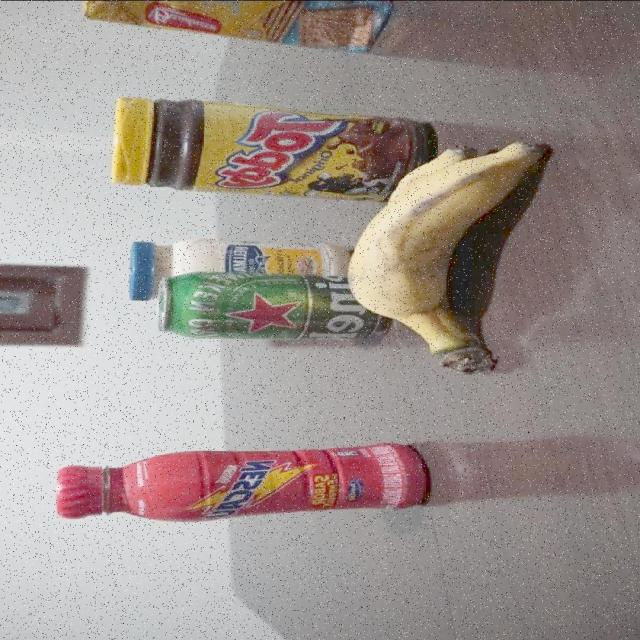Banana: (348, 140, 546, 374)
BeerCan: (156, 271, 387, 342)
ChocolateMilk: (55, 437, 430, 524)
ChocolatePowder: (108, 94, 434, 204)
Cracker: (74, 0, 404, 55)
Mayonnaise: (128, 235, 364, 305)
